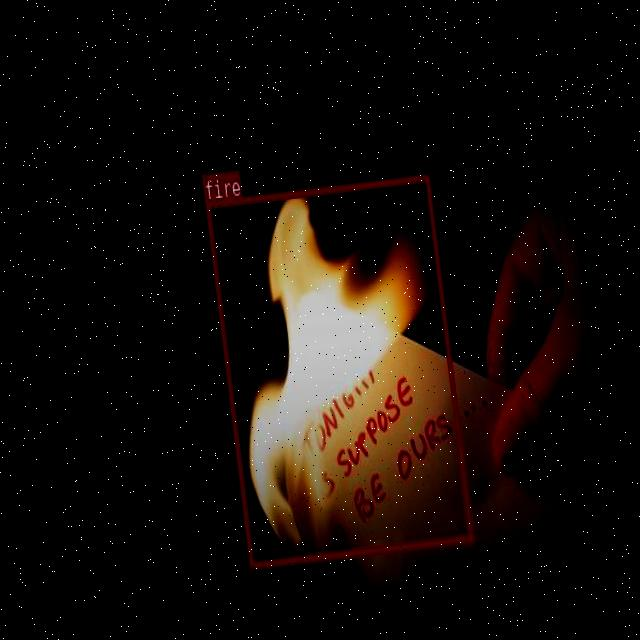fire: (204, 172, 473, 568)
